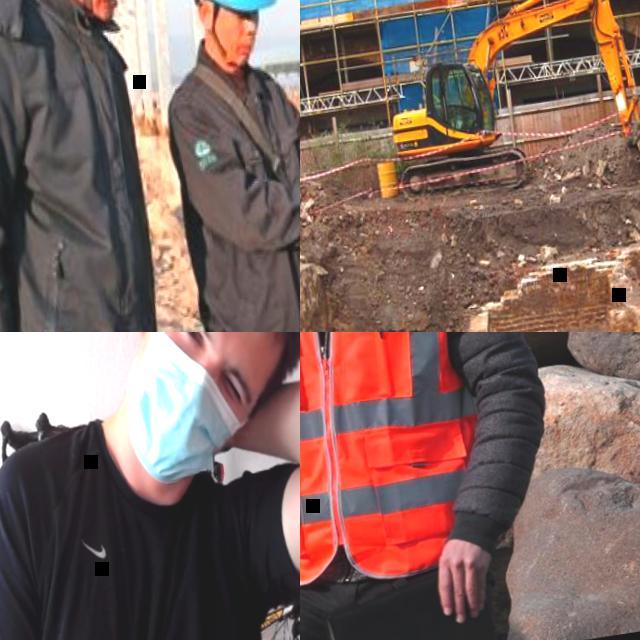Weapon: (1, 327, 299, 640), (146, 0, 301, 332)
objects: (175, 2, 285, 92)
